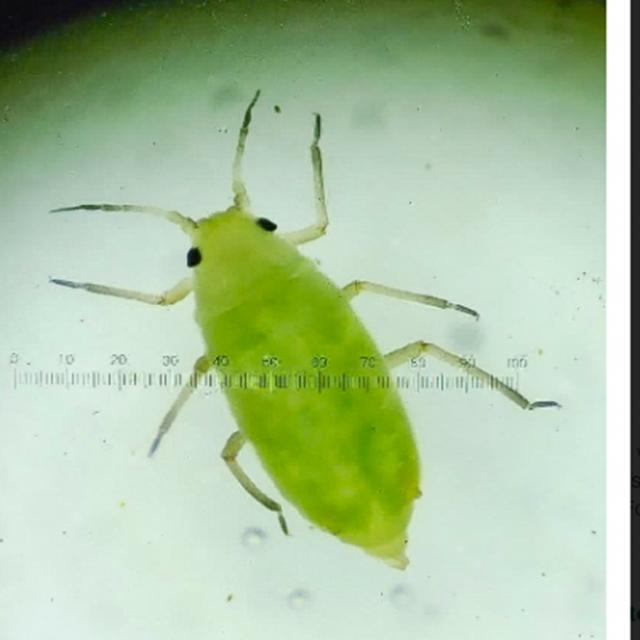Aphid-Grown-: (67, 80, 523, 577)
